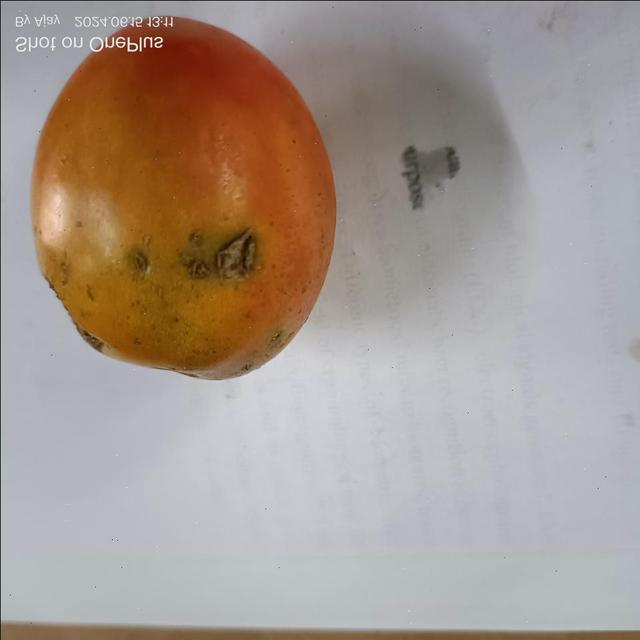Bacterial Spot Fruit: (83, 150, 172, 191)
